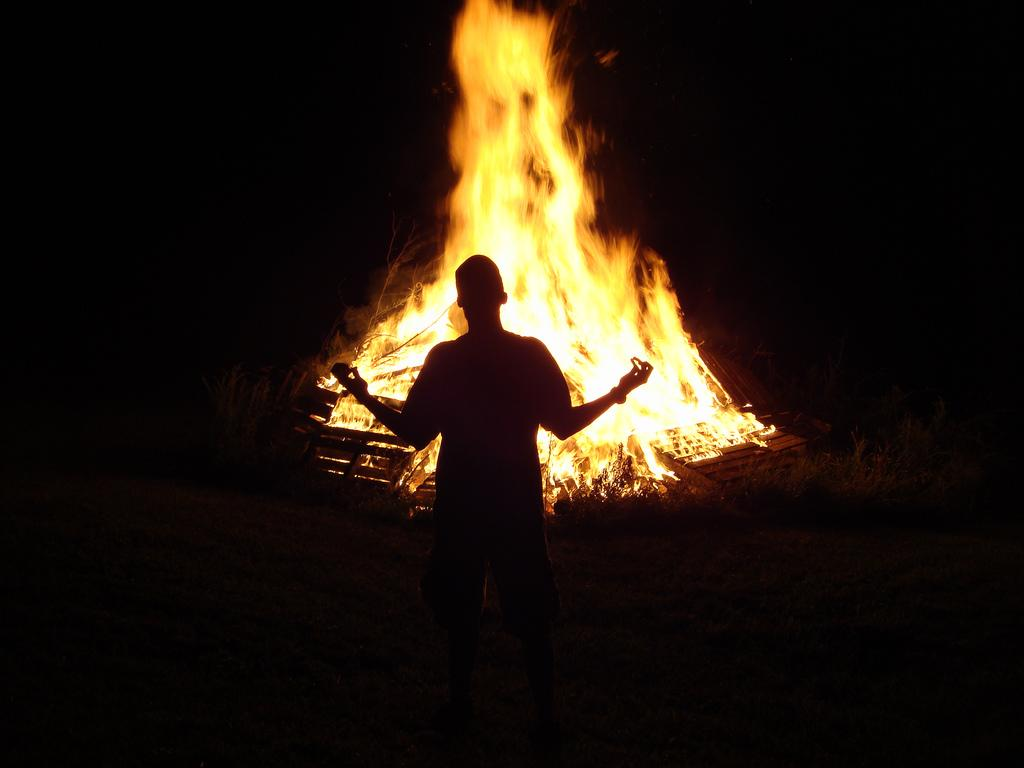fire: (462, 30, 564, 248), (504, 252, 658, 328), (606, 392, 720, 464)
